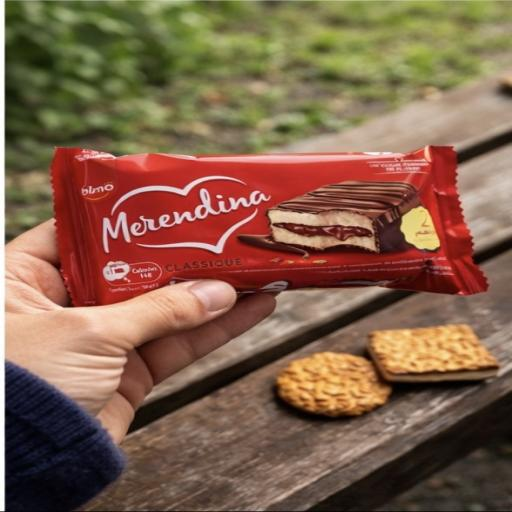merendina: (39, 123, 495, 339)
